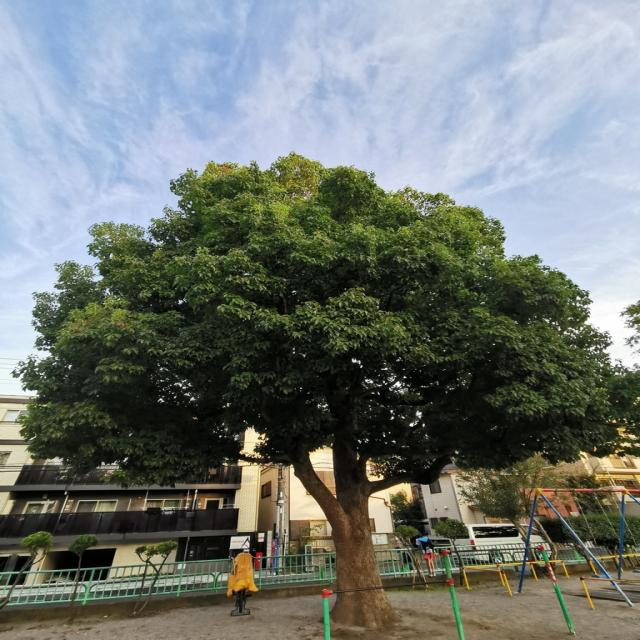camphor: (22, 153, 640, 634)
